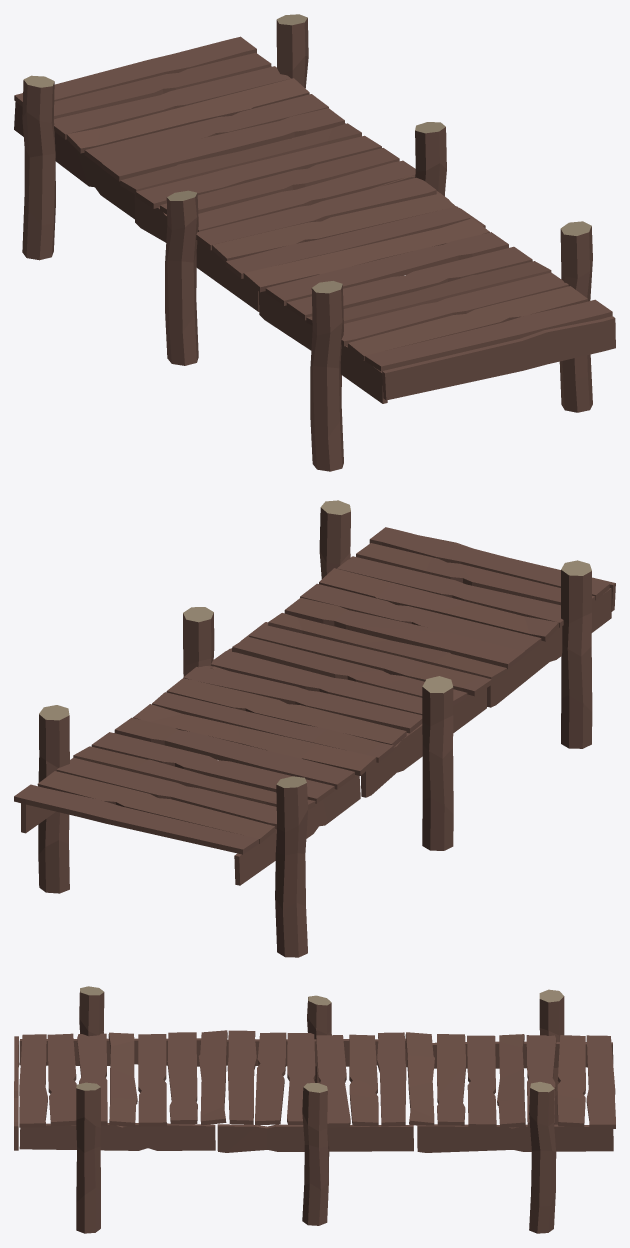
Rendered from Dock_Long_NoRope.glb.
3 renders of one model, top to bottom at view 1: azimuth 30°, elevation 25°; view 2: azimuth 150°, elevation 25°; view 3: azimuth 270°, elevation 25°, orthographic. The views are drawn at different scales.
Visible parts, largest first — view 1: Dock_Long_NoRope; view 2: Dock_Long_NoRope; view 3: Dock_Long_NoRope.
Boxes of the visible parts, left/top/right/bottom form: Dock_Long_NoRope: left=14, top=14, right=615, bottom=471; Dock_Long_NoRope: left=14, top=500, right=615, bottom=957; Dock_Long_NoRope: left=14, top=986, right=615, bottom=1233.
Bounding box in the file's own units: 9.21 × 5.66 × 21.69.
